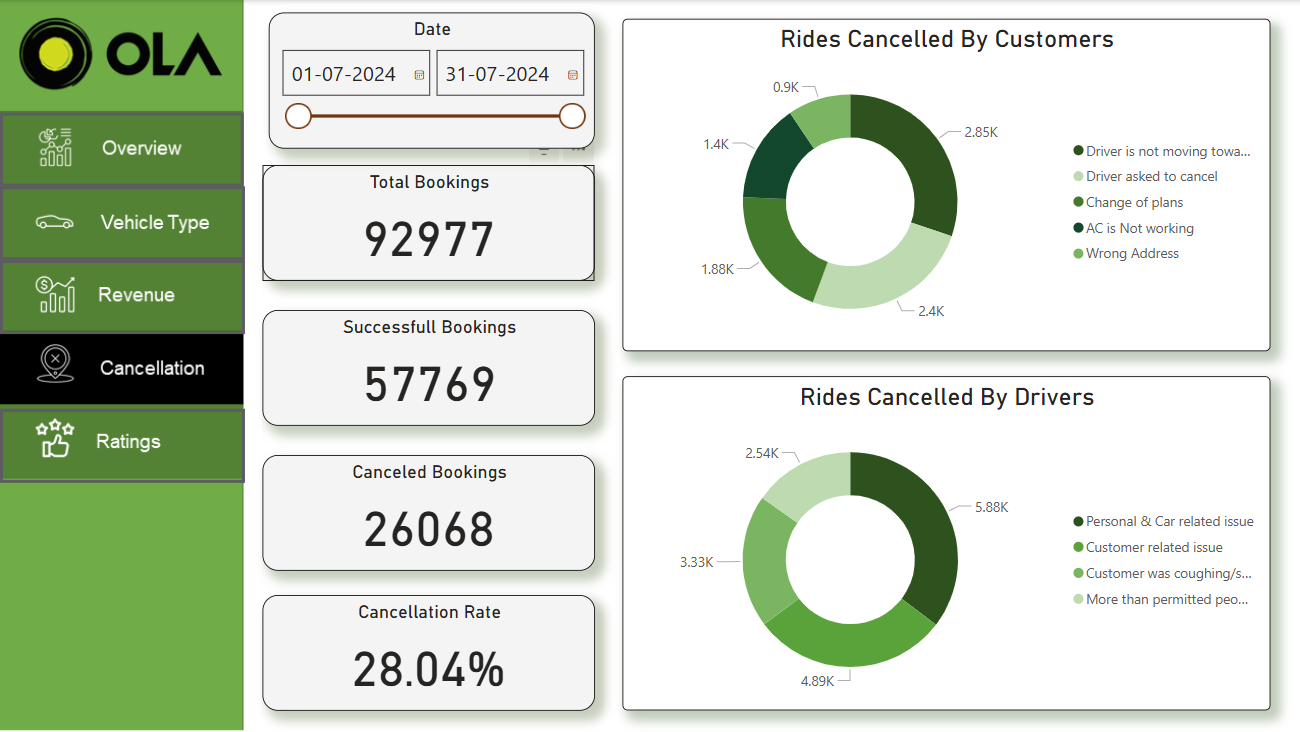

The page's visual inventory and layout, read from the dashboard file:
{"tool":"powerbi","page":{"name":"Cancellation","canvas":[1280,720],"ordinal":3},"visuals":[{"type":"actionButton","box":[0,182.7,240.5,72.7],"z":0},{"type":"actionButton","box":[0,255.5,240.5,72.7],"z":1000},{"type":"actionButton","box":[0,110,240,73],"z":2000},{"type":"actionButton","box":[0,400.9,240.5,72.7],"z":3000},{"type":"donutChart","title":"Rides Cancelled By Customers","fields":{"Category":["dataset.Canceled_Rides_by_Customer"],"Y":["CountNonNull(dataset.Booking_Status)"]},"box":[610.5,18.7,636,326.7],"z":4000},{"type":"donutChart","title":"Rides Cancelled By Drivers","fields":{"Y":["CountNonNull(dataset.Booking_Status)"],"Category":["dataset.Canceled_Rides_by_Driver"]},"box":[610.5,369.5,636,328],"z":5000},{"type":"card","title":"Total Bookings","fields":{"Values":["Count(dataset.Booking_ID)"]},"box":[257.1,162,326.7,113.8],"z":6000},{"type":"card","title":"Successfull Bookings","fields":{"Values":["Count(dataset.Booking_ID)"]},"box":[257.1,303.9,326.7,113.8],"z":7000},{"type":"card","title":"Canceled Bookings","fields":{"Values":["dataset.Total Booking Canceled"]},"box":[257.1,447.2,326.7,113.8],"z":8000},{"type":"card","title":"Cancellation Rate","fields":{"Values":["dataset.Cancel Rate"]},"box":[257.1,583.8,326.7,113.8],"z":9000},{"type":"slicer","title":"Date","fields":{"Values":["dataset.Date"]},"box":[263.8,12.1,320,133.9],"z":10000}]}

Visuals, with their boxes in screenshot pixels (x1, y1, x2, y2), scaled from the page's 1280x720 canvas onto the 1300x732 screenshot:
actionButton: 0 186 244 260
actionButton: 0 260 244 334
actionButton: 0 112 244 186
actionButton: 0 408 244 481
"Rides Cancelled By Customers" donutChart: 620 19 1266 351
"Rides Cancelled By Drivers" donutChart: 620 376 1266 709
"Total Bookings" card: 261 165 593 280
"Successfull Bookings" card: 261 309 593 425
"Canceled Bookings" card: 261 455 593 570
"Cancellation Rate" card: 261 594 593 709
"Date" slicer: 268 12 593 148
